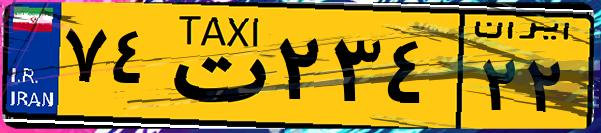2: (270, 28, 330, 110), (475, 38, 525, 113), (525, 38, 570, 115)
3: (330, 28, 385, 110)
4: (385, 28, 445, 110), (110, 28, 158, 98)
7: (57, 26, 110, 100)
ت: (158, 12, 270, 120)
